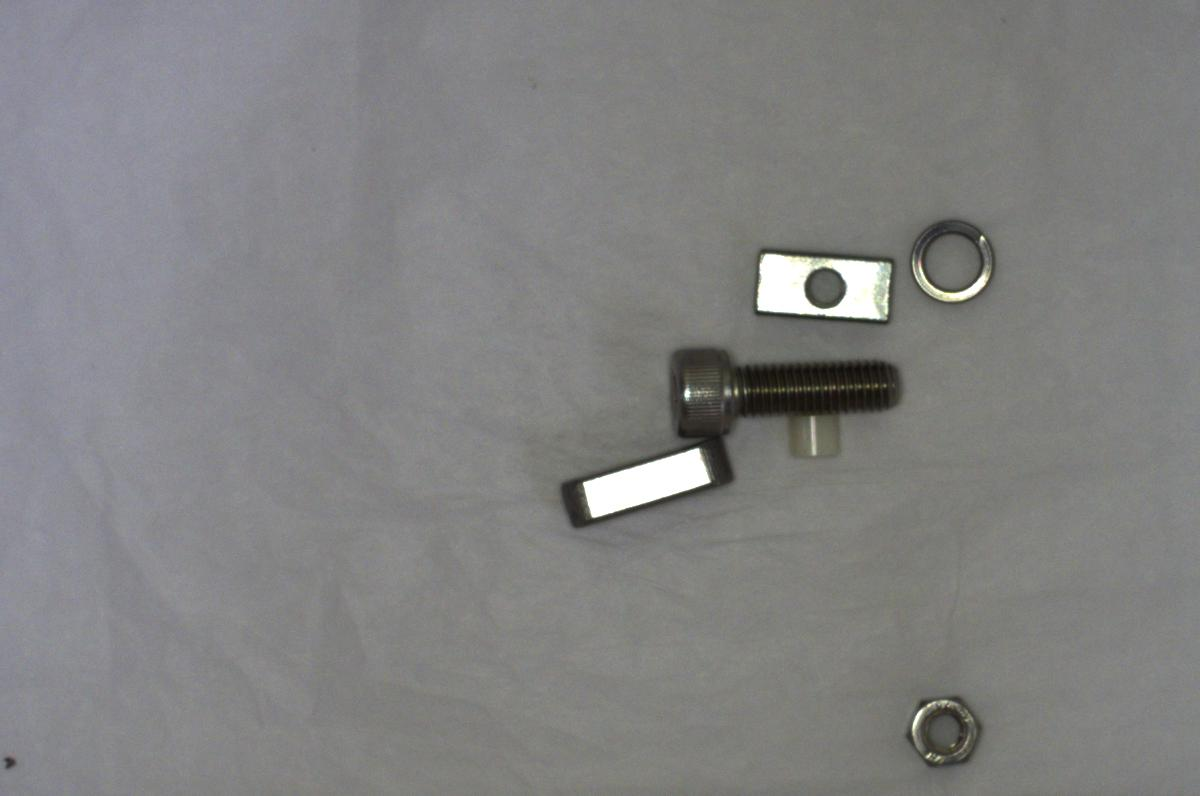Hexagon nut: (894, 682, 988, 773)
Hexagon screw: (653, 338, 912, 447)
Keybar: (566, 438, 747, 528)
Plastic cushion pillar: (778, 406, 855, 469)
Rectangular nut: (746, 248, 901, 327)
Spring washer: (904, 212, 998, 303)
